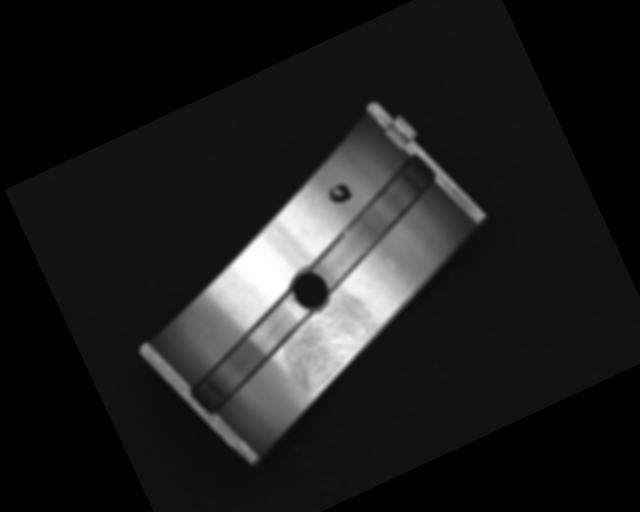blot: (323, 178, 355, 208)
bruise: (384, 254, 397, 271)
gap: (287, 156, 457, 294), (172, 291, 330, 416)
hole: (283, 262, 336, 318)
scratch: (267, 288, 388, 398)
